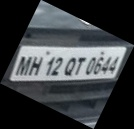character: (14, 55, 32, 77), (28, 56, 43, 76), (50, 57, 63, 76), (64, 57, 77, 76), (74, 57, 86, 76), (92, 56, 104, 74), (100, 56, 112, 74), (108, 57, 120, 75), (45, 56, 55, 76), (85, 56, 96, 74)
